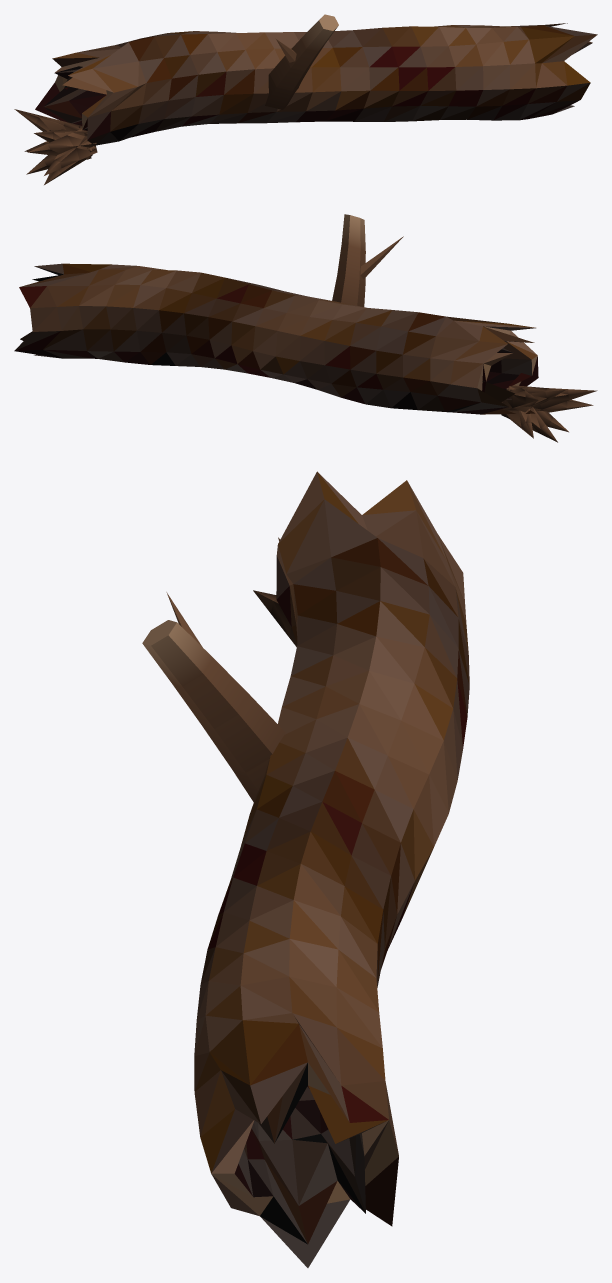
The model's file is pohon_tumbang_uprooted_rainforest_658577.glb.
The picture shows the model from 3 angles, top to bottom: view 1: azimuth 30°, elevation 25°; view 2: azimuth 150°, elevation 25°; view 3: azimuth 270°, elevation 25°; orthographic projection. The views are drawn at different scales.
Visible parts, largest first — view 1: Tunggul_Akar_Tumbang; view 2: Tunggul_Akar_Tumbang; view 3: Tunggul_Akar_Tumbang.
Boxes of the visible parts, left/top/right/bottom form: Tunggul_Akar_Tumbang: left=14, top=14, right=597, bottom=184; Tunggul_Akar_Tumbang: left=14, top=214, right=597, bottom=442; Tunggul_Akar_Tumbang: left=142, top=471, right=469, bottom=1267.
Bounding box in the file's own units: 7.12 × 2.22 × 1.78.
